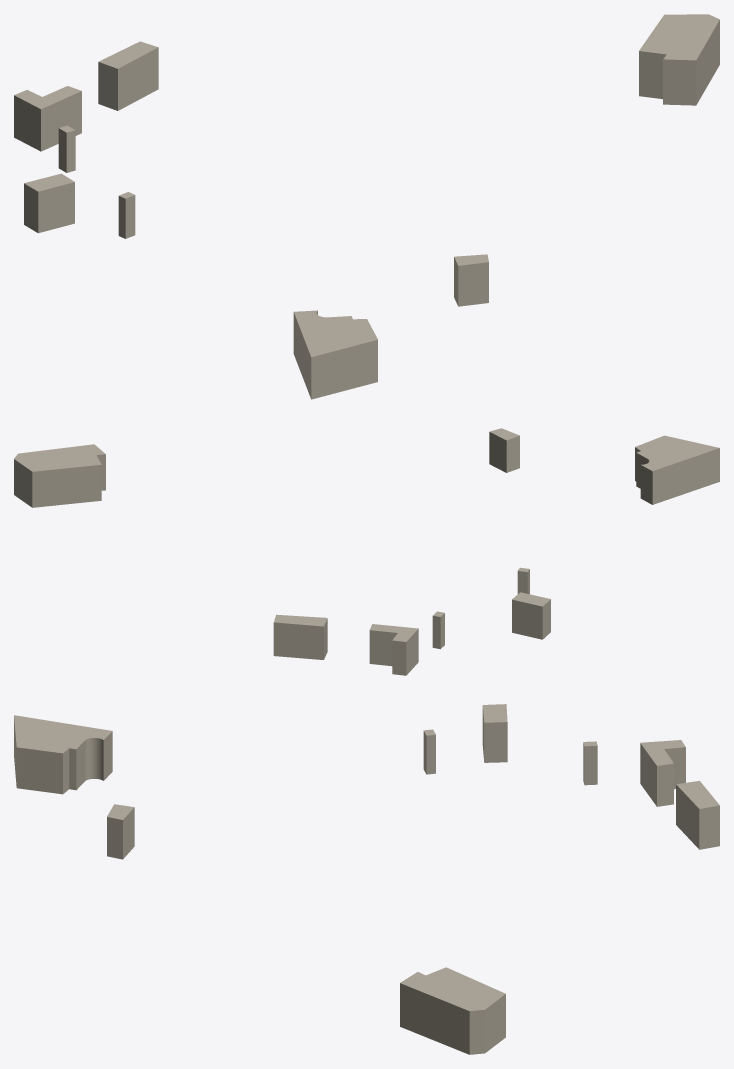
Rendered from kalkara_68_25_far.glb.
3 views of the same model, one above another, from view 1: azimuth 30°, elevation 25°; view 2: azimuth 150°, elevation 25°; view 3: azimuth 270°, elevation 25° (orthographic). The views are drawn at different scales.
Visible parts, largest first — view 1: geometry_0; view 2: geometry_0; view 3: geometry_0.
Part boxes in pixels (left/top/right/bottom): geometry_0: left=14, top=14, right=719, bottom=399; geometry_0: left=14, top=428, right=719, bottom=675; geometry_0: left=14, top=704, right=719, bottom=1054.
Size of the model in its own units: 180 by 13.78 by 168.
